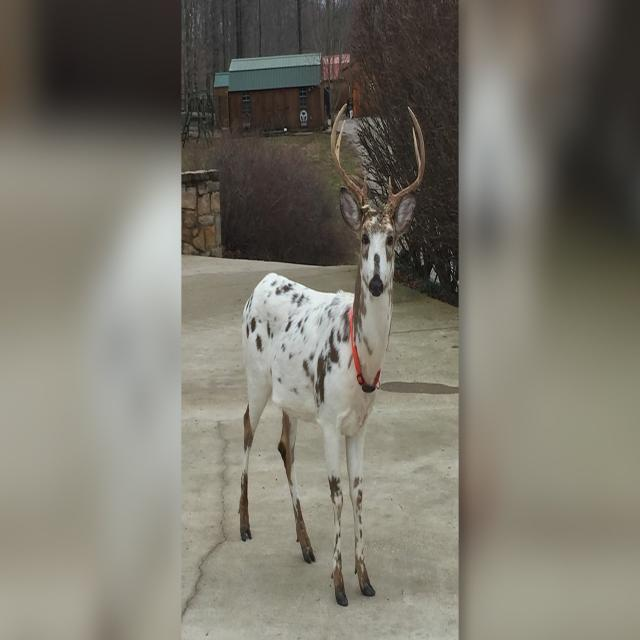deer: (239, 105, 425, 606)
